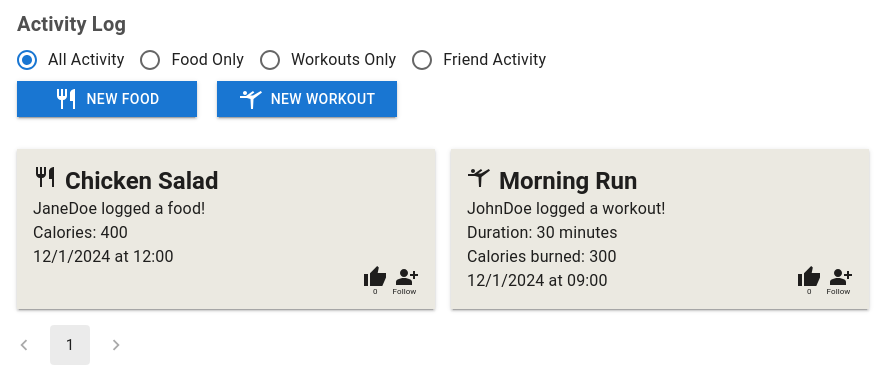
it: HomePage › filters activities by type
Check: the heading "Chicken Salad" is shown, box [33, 165, 218, 197]
What coordinates should you click on to do the following:
click the radio button labelled "Food Only"
I would click on:
 (191, 60)
Its box is [138, 48, 244, 72].
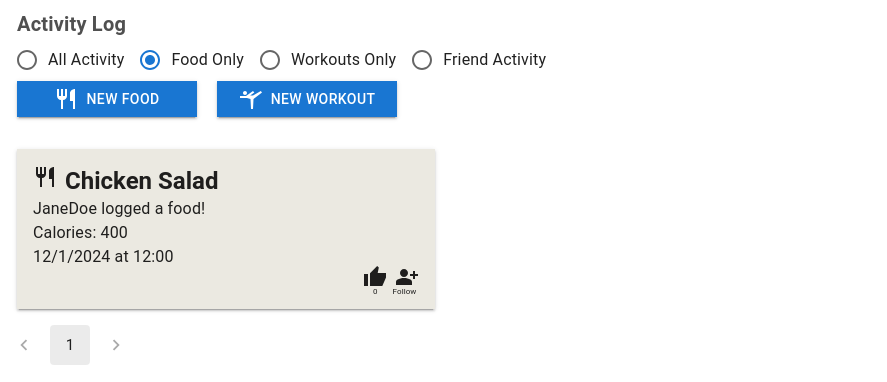
Check: the heading "Chicken Salad" is shown, box [33, 165, 218, 197]
Check: the link "Morning Run" is gone
